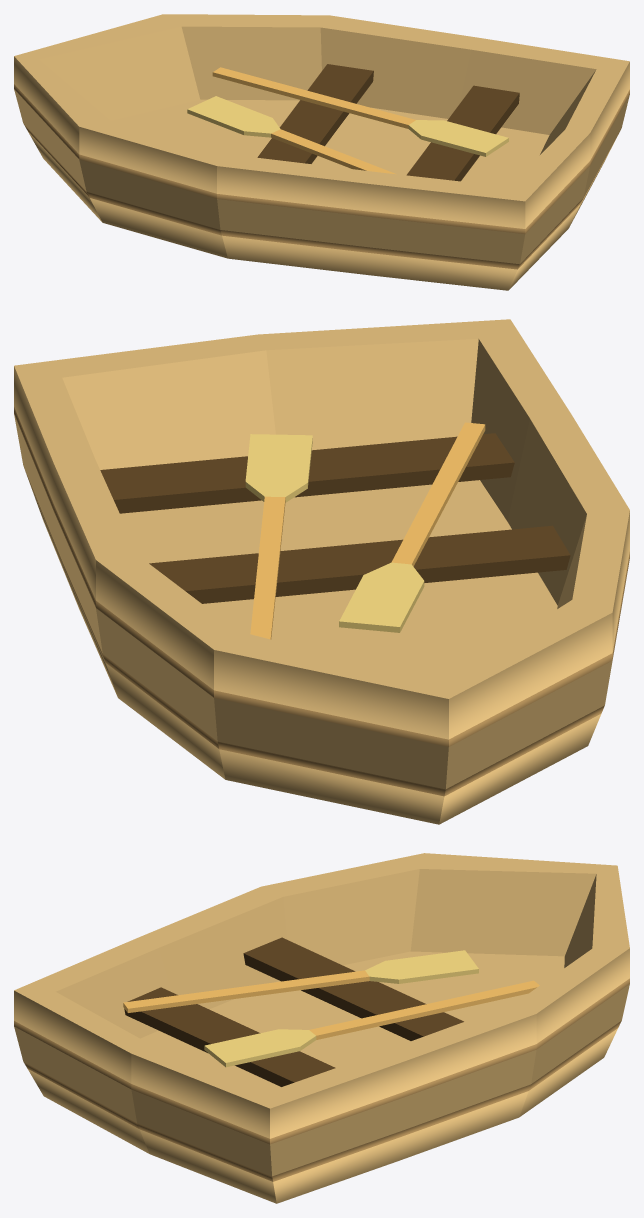
Rendered from boat.glb.
The picture shows the model from 3 angles, top to bottom: view 1: azimuth 30°, elevation 25°; view 2: azimuth 150°, elevation 25°; view 3: azimuth 270°, elevation 25°; orthographic projection. The views are drawn at different scales.
Visible parts, largest first — view 1: boat; view 2: boat; view 3: boat.
Part boxes in pixels (x1,y1,x2,y2): boat: (14,14,629,290); boat: (14,319,629,824); boat: (14,853,629,1203).
Size of the model in its own units: 2.55 by 0.5 by 2.6.
